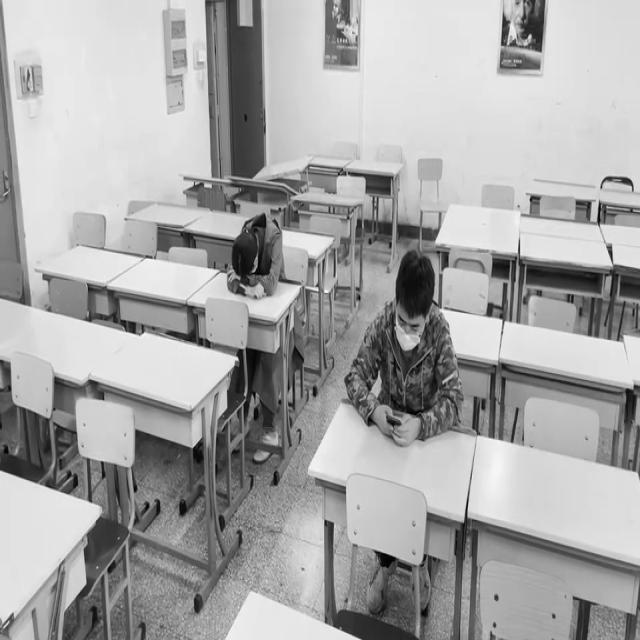phone: (345, 258, 459, 441)
sleep: (226, 213, 286, 294)
